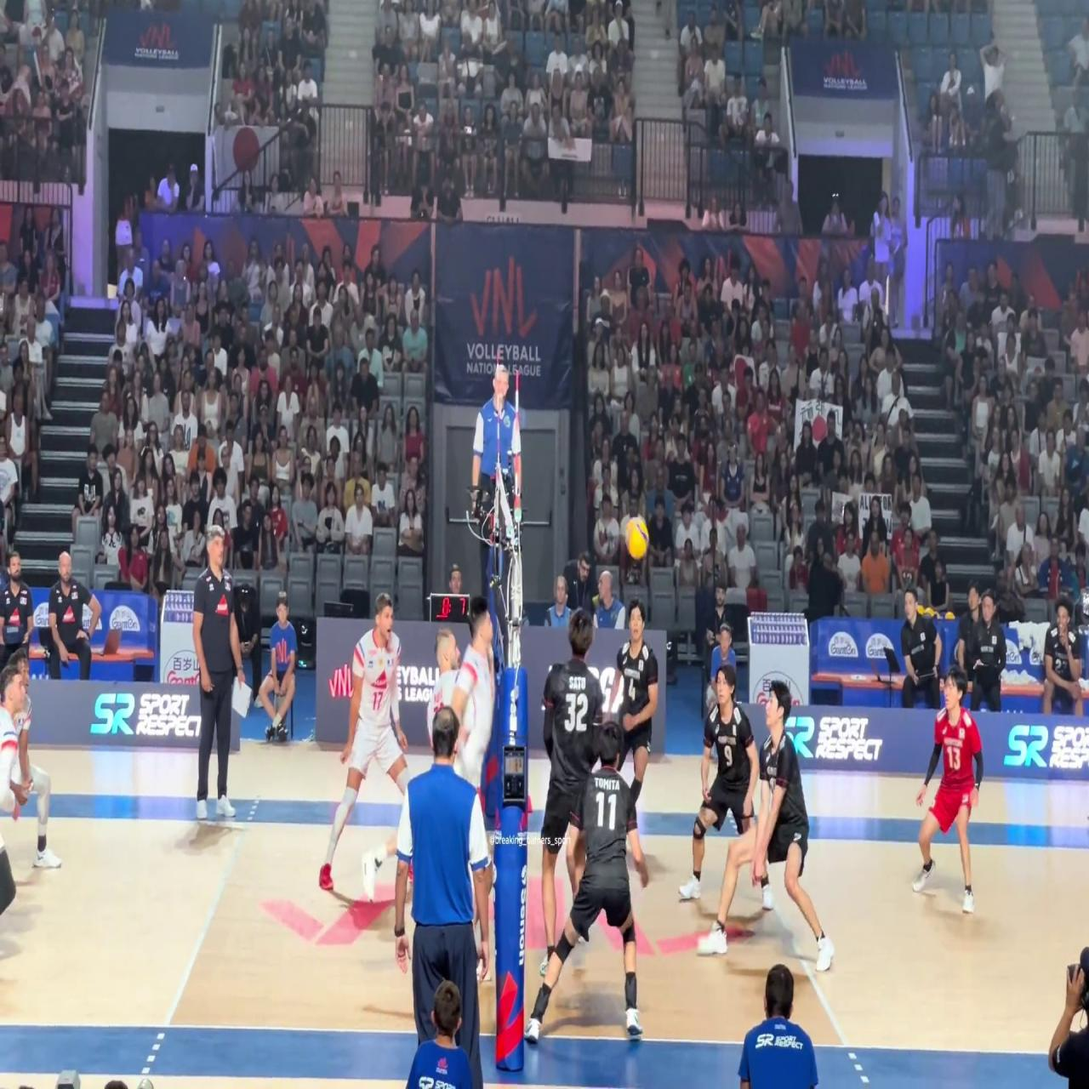ball: (625, 515, 649, 561)
